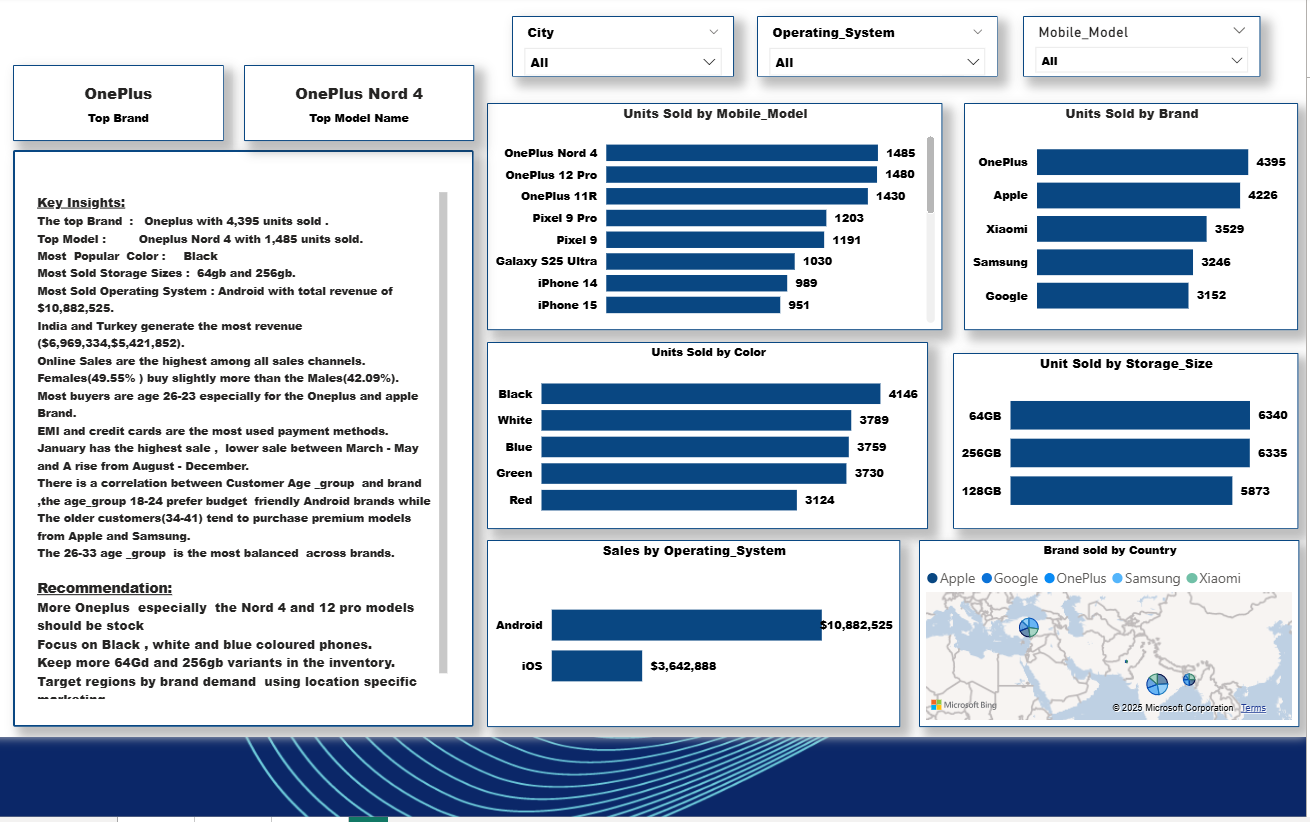

This screenshot's page, from the dashboard's own definition file:
{"tool":"powerbi","page":{"name":"Page 2","canvas":[1280,720],"ordinal":1},"visuals":[{"type":"card","fields":{"Values":["Measure.Top Brand"]},"box":[22.4,66.1,205.2,73.9],"z":0},{"type":"barChart","title":"Units Sold by Brand","fields":{"Category":["Sales_Data.Brand"],"Y":["Measure.Total_Units Sold"]},"box":[947.4,103.1,324.9,220.8],"z":1000},{"type":"barChart","title":"Units Sold by Mobile_Model","fields":{"Category":["Products.Mobile_Model"],"Y":["Measure.Total_Units Sold"]},"box":[483.4,103.1,442.6,220.8],"z":2000},{"type":"shape","box":[22.4,148.8,448.4,561.2],"z":3000},{"type":"card","fields":{"Values":["Measure.Top Model Name"]},"box":[247.1,66.1,223.7,73.9],"z":4000},{"type":"barChart","title":"Unit Sold by  Storage_Size","fields":{"Category":["Products.Storage_Size"],"Y":["Measure.Total_Units Sold"]},"box":[936.7,346.3,335.6,171.2],"z":5000},{"type":"barChart","title":"Units Sold  by Color","fields":{"Category":["Products.Color"],"Y":["Measure.Total_Units Sold"]},"box":[483.4,335.6,428.9,181.9],"z":6000},{"type":"barChart","title":"Sales by Operating_System","fields":{"Category":["Products.Operating_System"],"Y":["Measure.Total_Revenue"]},"box":[483.4,528.1,401.7,181.9],"z":7000},{"type":"map","title":"Brand sold by Country","fields":{"Size":["Measure.Total_Units Sold"],"Category":["Locations.Country"],"Series":["Products.Brand"]},"box":[903.6,528.1,369.6,181.9],"z":8000},{"type":"slicer","fields":{"Values":["Locations.City"]},"box":[507.7,18.5,215.9,59.3],"z":9000},{"type":"slicer","fields":{"Values":["Products.Operating_System"]},"box":[746,18.5,234.4,59.3],"z":10000},{"type":"slicer","fields":{"Values":["Products.Mobile_Model"]},"box":[1004.7,18.5,231.5,59.3],"z":11000},{"type":"textbox","box":[40.9,184.8,409.5,502.9],"z":11001}]}

Visuals, with their boxes on the page's 1280x720 design canvas (x1, y1, x2, y2). These are canvas units, not pixel positions in the 1310x822 screenshot, which may show the page scaled, cropped or inside an application window:
card - Measure.Top Brand: <box>22,66,228,140</box>
"Units Sold by Brand" barChart: <box>947,103,1272,324</box>
"Units Sold by Mobile_Model" barChart: <box>483,103,926,324</box>
shape: <box>22,149,471,710</box>
card - Measure.Top Model Name: <box>247,66,471,140</box>
"Unit Sold by  Storage_Size" barChart: <box>937,346,1272,518</box>
"Units Sold  by Color" barChart: <box>483,336,912,518</box>
"Sales by Operating_System" barChart: <box>483,528,885,710</box>
"Brand sold by Country" map: <box>904,528,1273,710</box>
slicer - Locations.City: <box>508,18,724,78</box>
slicer - Products.Operating_System: <box>746,18,980,78</box>
slicer - Products.Mobile_Model: <box>1005,18,1236,78</box>
textbox: <box>41,185,450,688</box>
